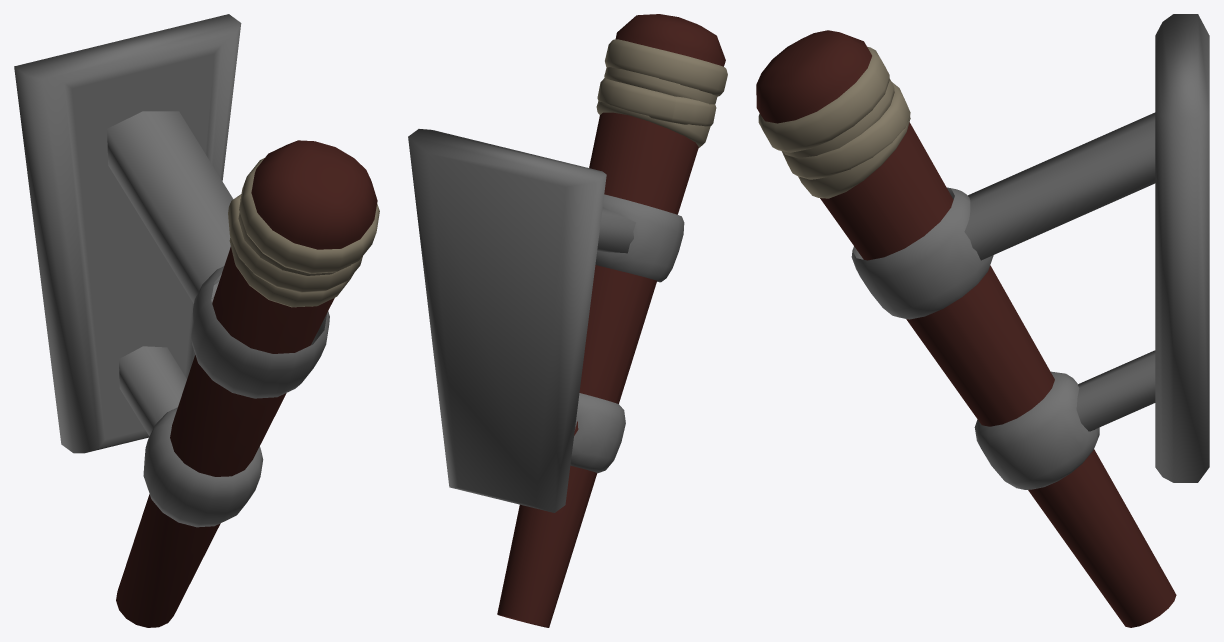
Rendered from TochaDeParede.fbx.
The picture shows the model from 3 angles, left to right: view 1: azimuth 30°, elevation 25°; view 2: azimuth 150°, elevation 25°; view 3: azimuth 270°, elevation 25°; orthographic projection. The views are drawn at different scales.
Visible parts, largest first — view 1: Apoio, Madeira, Faixas; view 2: Apoio, Madeira, Faixas; view 3: Apoio, Madeira, Faixas.
Boxes of the visible parts, box(x1,y1,x2,y2) form: Apoio: box(14, 14, 329, 527); Madeira: box(116, 140, 377, 627); Faixas: box(228, 158, 379, 307); Apoio: box(408, 129, 684, 512); Madeira: box(497, 14, 725, 627); Faixas: box(596, 39, 727, 148); Apoio: box(851, 14, 1209, 489); Madeira: box(756, 30, 1176, 627); Faixas: box(758, 47, 910, 198).
Bounding box in the file's own units: 27.45 × 71.88 × 50.42.
